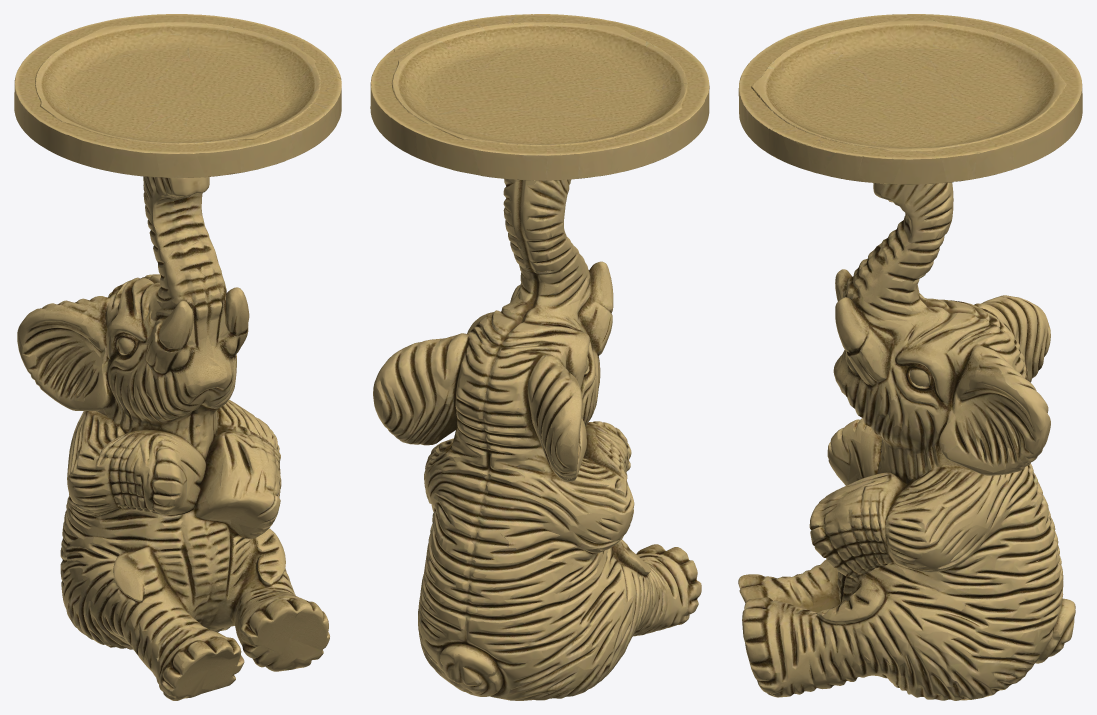
File: behoma-metal-elephant-pillar-candle-holder-statue-gold-set-o.glb
3 views of the same model, side by side, from view 1: azimuth 30°, elevation 25°; view 2: azimuth 150°, elevation 25°; view 3: azimuth 270°, elevation 25° (orthographic). The views are drawn at different scales.
Visible parts, largest first — view 1: Mesh_0; view 2: Mesh_0; view 3: Mesh_0.
Part boxes in pixels (x1=…): Mesh_0: x1=14, y1=14, x2=341, y2=700; Mesh_0: x1=370, y1=14, x2=709, y2=700; Mesh_0: x1=738, y1=14, x2=1082, y2=700.
Bounding box in the file's own units: 1.02 × 1.9 × 1.02.
Materials: 1 (1 with a texture image).
